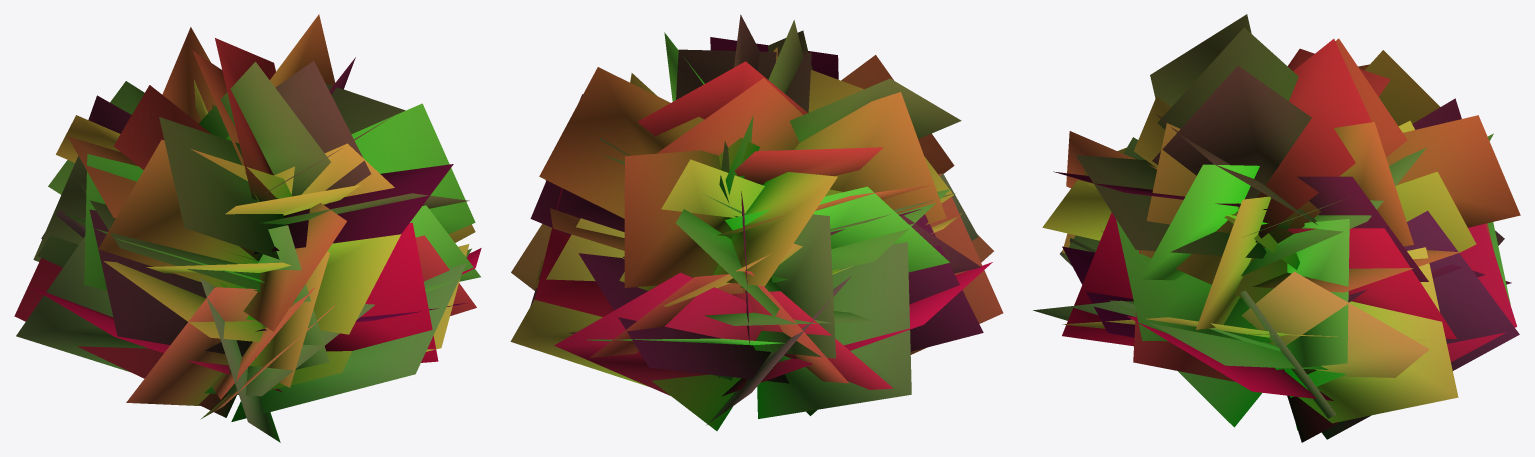
Rendered from TreeBush_small.fbx.
The picture shows the model from 3 angles, left to right: view 1: azimuth 30°, elevation 25°; view 2: azimuth 150°, elevation 25°; view 3: azimuth 270°, elevation 25°; orthographic projection. The views are drawn at different scales.
Parts seen in each view (by area): view 1: Tree_0; view 2: Tree_0; view 3: Tree_0.
Part boxes in pixels (bbox=[...]): Tree_0: bbox=[14, 14, 481, 442]; Tree_0: bbox=[510, 14, 1003, 430]; Tree_0: bbox=[1033, 14, 1520, 442].
Size of the model in its own units: 106 by 97.23 by 108.
